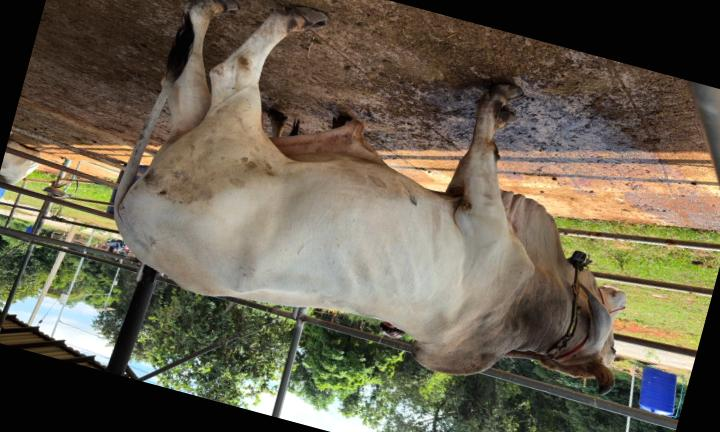Brahman: (114, 0, 613, 394)
